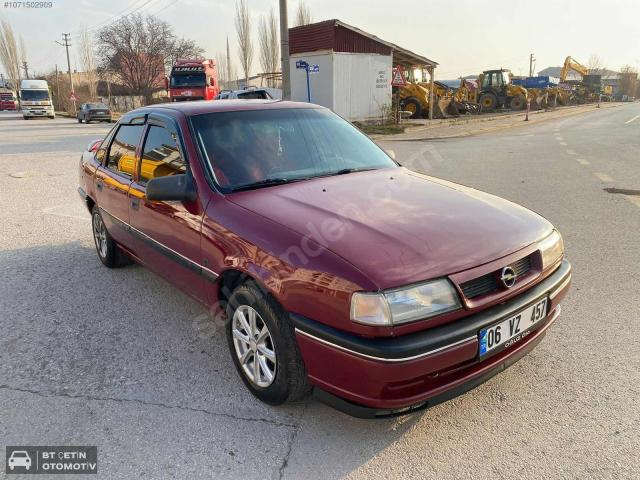plaka: (479, 297, 548, 360)
